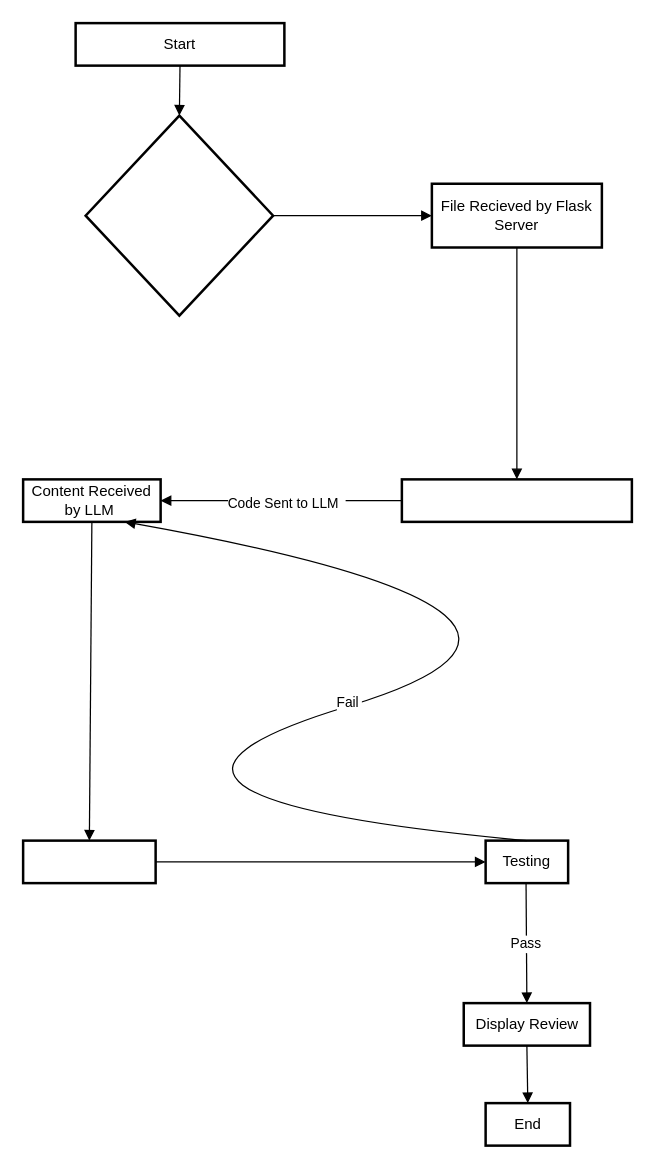
This 654x1168 diagram has some shape labels left out. Here are the shapes that lost their labels. From the top down, the box of each, then its label:
(84, 114, 274, 316): User Uploads Code on Flask Web App
(400, 478, 632, 522): Extract Code Content
(21, 839, 156, 884): Code Review
